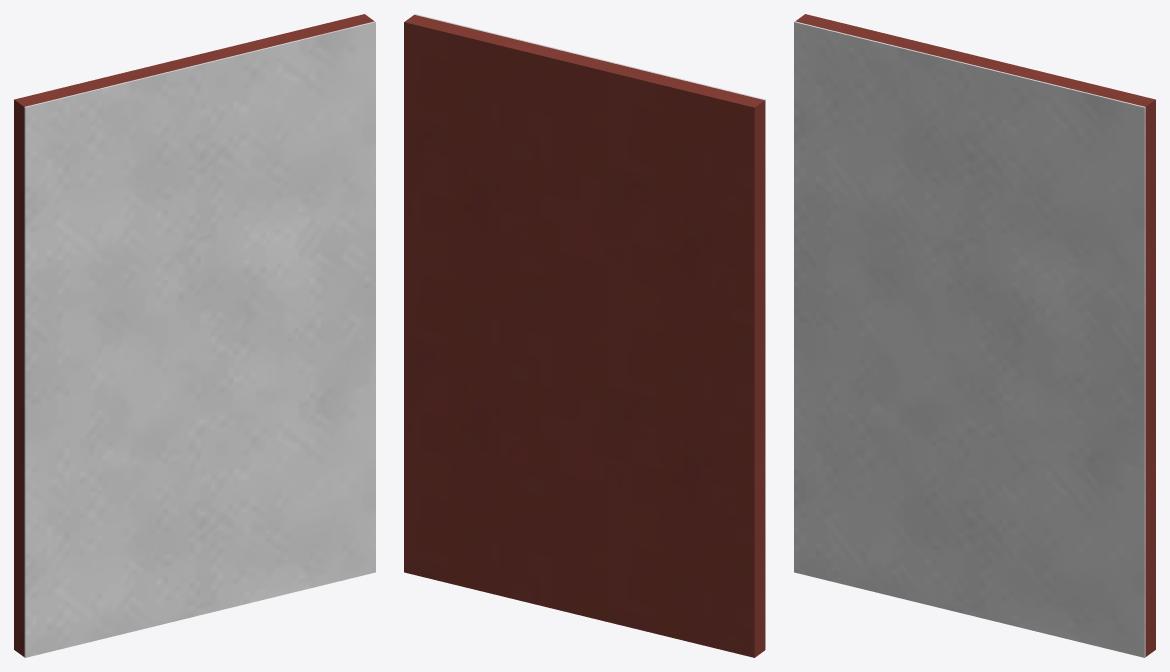
Rendered from banner.glb.
3 renders of one model, left to right at view 1: azimuth 30°, elevation 25°; view 2: azimuth 150°, elevation 25°; view 3: azimuth 330°, elevation 25°, orthographic.
Visible parts, largest first — view 1: castle.banner; view 2: castle.banner; view 3: castle.banner.
Boxes of the visible parts, x1,y1,x2,y2 form: castle.banner: (14,14,375,657); castle.banner: (404,14,765,657); castle.banner: (794,14,1155,657).
Bounding box in the file's own units: 1 × 1.5 × 0.055.
Materials: 2 (2 with a texture image).
